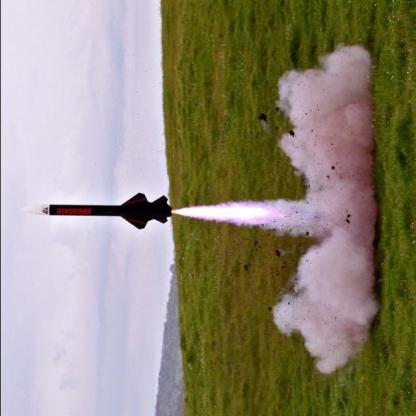MIL_TBM: (18, 198, 172, 226)
